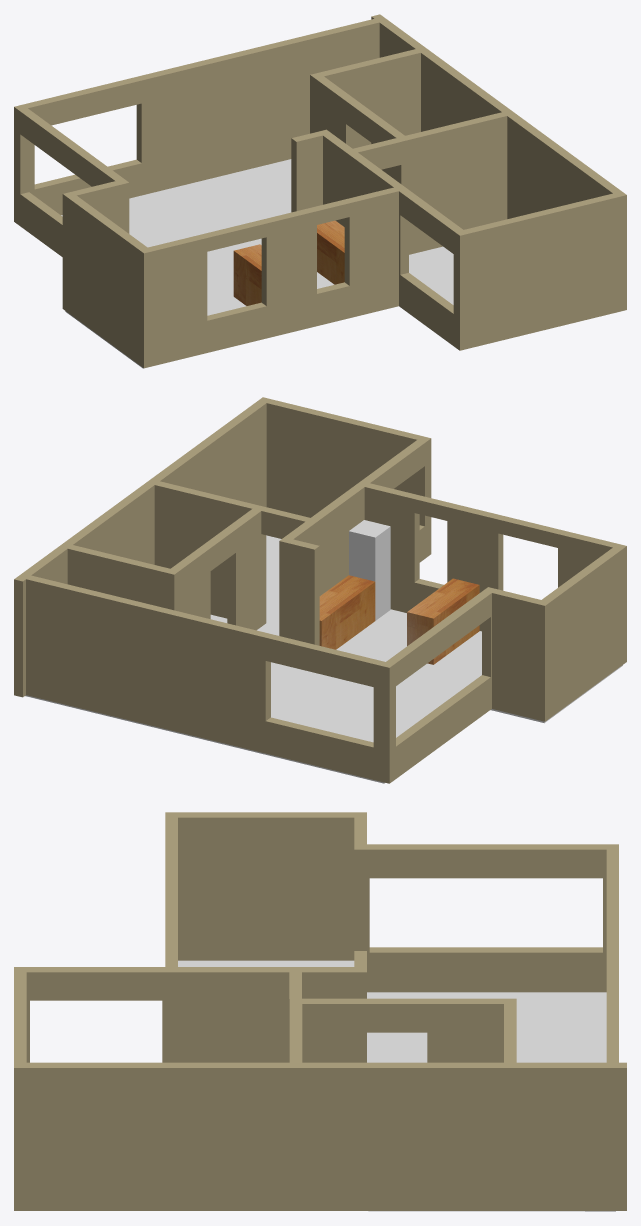
The picture shows the model from 3 angles, top to bottom: view 1: azimuth 30°, elevation 25°; view 2: azimuth 150°, elevation 25°; view 3: azimuth 270°, elevation 25°; orthographic projection. The views are drawn at different scales.
Parts seen in each view (by area): view 1: walls, Plane, barra, encimera; view 2: walls, Plane, encimera, frigo, barra; view 3: walls, Plane.
Part boxes in pixels (left/top/right/bottom): walls: left=14, top=14, right=626, bottom=368; Plane: left=61, top=159, right=458, bottom=368; barra: left=233, top=244, right=261, bottom=305; encimera: left=317, top=220, right=344, bottom=284; walls: left=14, top=397, right=626, bottom=783; Plane: left=25, top=535, right=622, bottom=783; encimera: left=319, top=575, right=375, bottom=649; frigo: left=349, top=520, right=390, bottom=620; barra: left=407, top=578, right=479, bottom=664; walls: left=14, top=812, right=626, bottom=1210; Plane: left=178, top=960, right=615, bottom=1211.
Bounding box in the file's own units: 9.6 × 9.73 × 2.55.
Materials: 3 (1 with a texture image).
